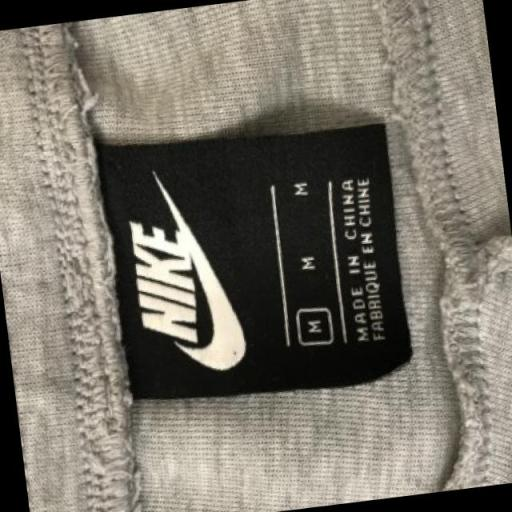Nike: (172, 192, 249, 372), (128, 210, 202, 348)
